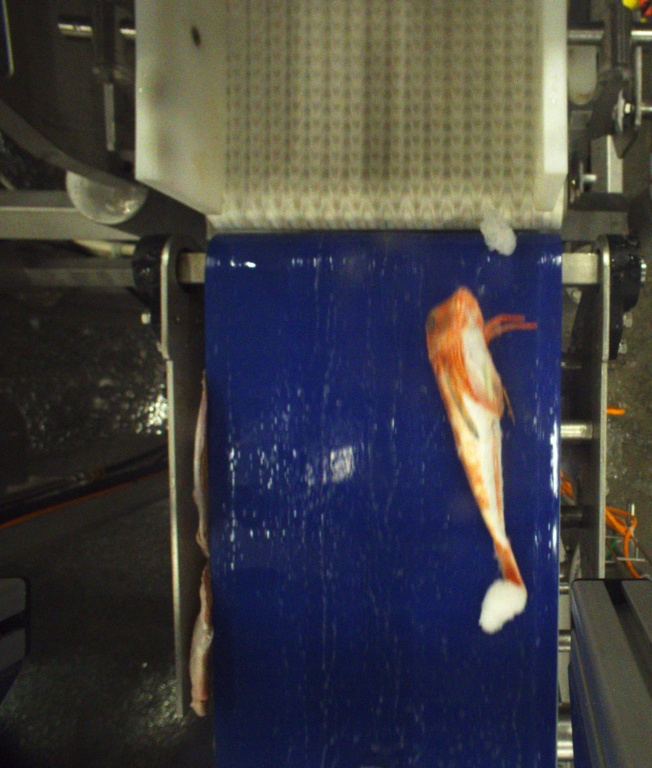GUU: (429, 290, 534, 589)
